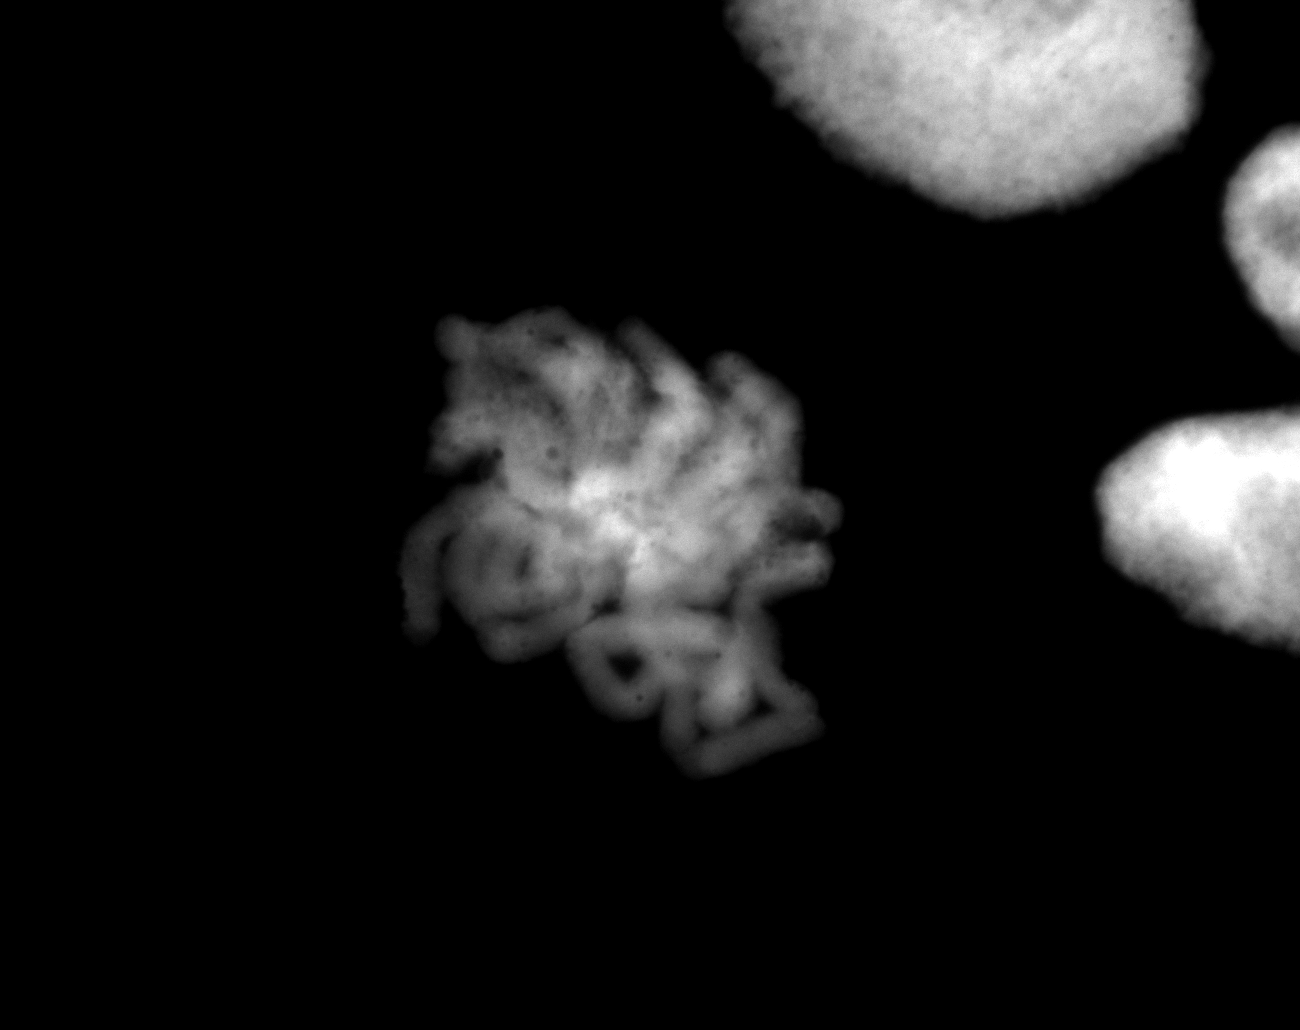Chromosomes: (386, 243, 881, 814)
Others: (703, 1, 1242, 257), (1070, 386, 1300, 678), (1163, 82, 1300, 365)
